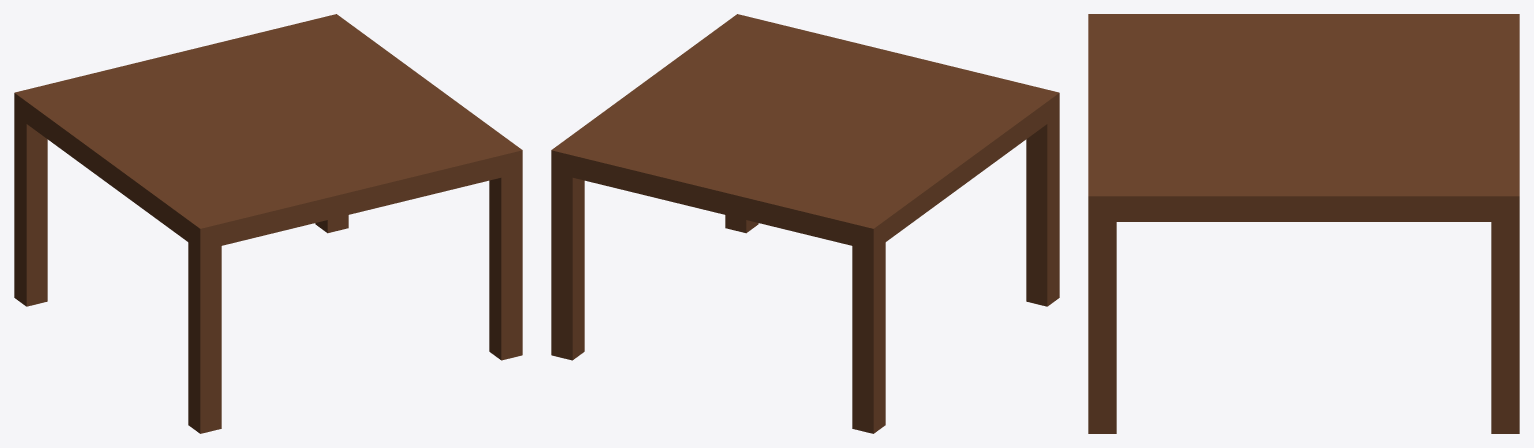
Rendered from table.fbx.
3 views of the same model, side by side, from view 1: azimuth 30°, elevation 25°; view 2: azimuth 150°, elevation 25°; view 3: azimuth 270°, elevation 25° (orthographic). The views are drawn at different scales.
Parts seen in each view (by area): view 1: TableTop; view 2: TableTop; view 3: TableTop.
Part boxes in pixels (<box>): TableTop: <box>14,14,522,433</box>; TableTop: <box>551,14,1059,433</box>; TableTop: <box>1088,14,1519,433</box>.
Size of the model in its own units: 361 by 220 by 361.
